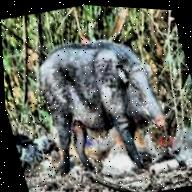boar: (6, 8, 186, 192)
